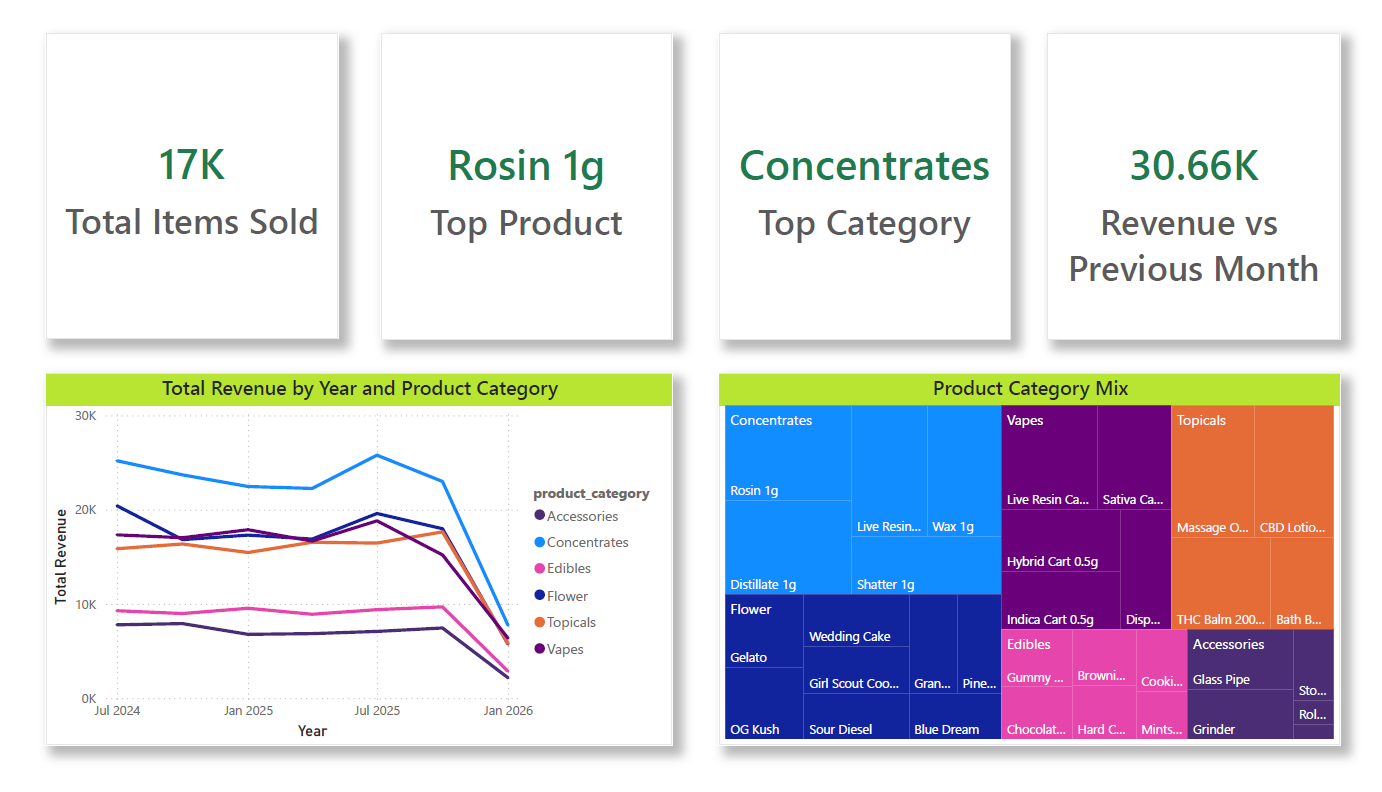

The page's visual inventory and layout, read from the dashboard file:
{"tool":"powerbi","page":{"name":"Product Performance","canvas":[1280,720],"ordinal":3},"visuals":[{"type":"card","fields":{"Values":["dispensary_data_cleaned.Total Items Sold"]},"box":[24,14,278,290],"z":0},{"type":"card","fields":{"Values":["dispensary_data_cleaned.Top Product"]},"box":[341.6,14.4,277.8,290.5],"z":1000},{"type":"card","fields":{"Values":["dispensary_data_cleaned.Top Category"]},"box":[662.5,14.4,277.8,290.5],"z":2000},{"type":"card","fields":{"Values":["dispensary_data_cleaned.Revenue vs Previous Month"]},"box":[975.4,14.4,277.8,290.5],"z":3000},{"type":"lineChart","title":"Total Revenue by Year and Product Category","fields":{"Category":["dispensary_data_cleaned.month_year.Variation.Date Hierarchy.Year","dispensary_data_cleaned.month_year.Variation.Date Hierarchy.Quarter","dispensary_data_cleaned.month_year.Variation.Date Hierarchy.Month","dispensary_data_cleaned.month_year.Variation.Date Hierarchy.Day"],"Y":["dispensary_data_cleaned.Total Revenue"],"Series":["dispensary_data_cleaned.product_category"]},"box":[23.9,336.8,595.5,352.8],"z":3001},{"type":"treemap","title":"Product Category Mix","fields":{"Values":["dispensary_data_cleaned.Total Revenue"],"Details":["dispensary_data_cleaned.product_name"],"Group":["dispensary_data_cleaned.product_category"]},"box":[662.5,336.8,590.7,352.8],"z":3002}]}

Visuals, with their boxes in screenshot pixels (x1, y1, x2, y2), scaled from the page's 1280x720 canvas onto the 1382x792 screenshot:
card - dispensary_data_cleaned.Total Items Sold: 26, 15, 326, 334
card - dispensary_data_cleaned.Top Product: 369, 16, 669, 335
card - dispensary_data_cleaned.Top Category: 715, 16, 1015, 335
card - dispensary_data_cleaned.Revenue vs Previous Month: 1053, 16, 1353, 335
"Total Revenue by Year and Product Category" lineChart: 26, 370, 669, 759
"Product Category Mix" treemap: 715, 370, 1353, 759
